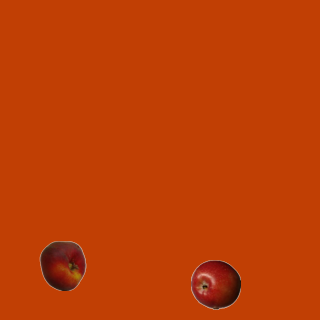Apple Braeburn: (190, 259, 240, 309)
Nectarine Flat: (37, 240, 87, 290)
